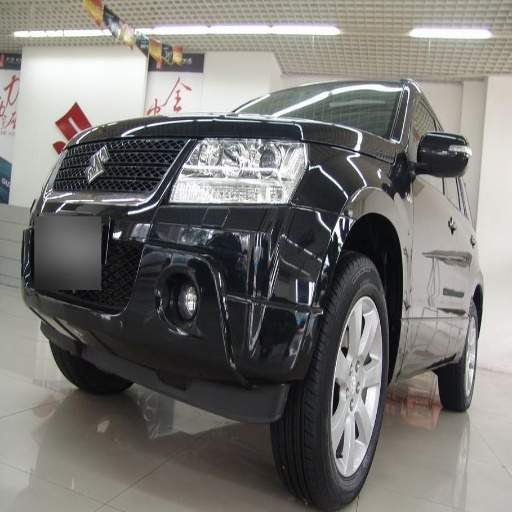front_left_door: (408, 101, 459, 349)
